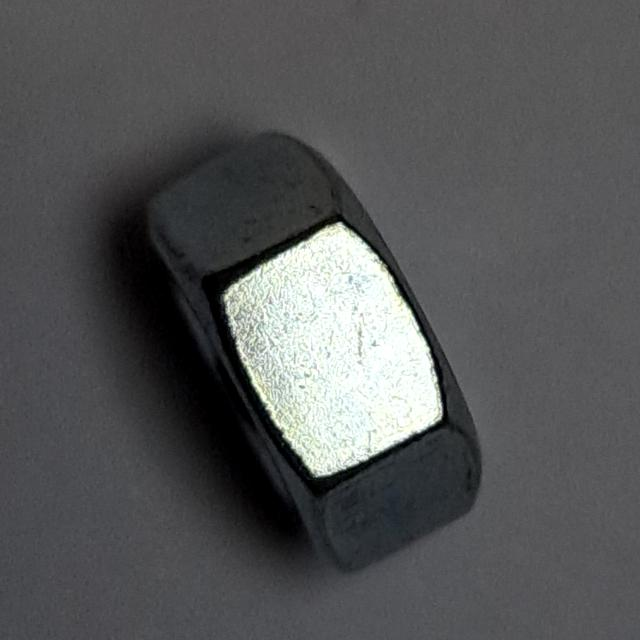Side_Excellent: (130, 113, 502, 585)
